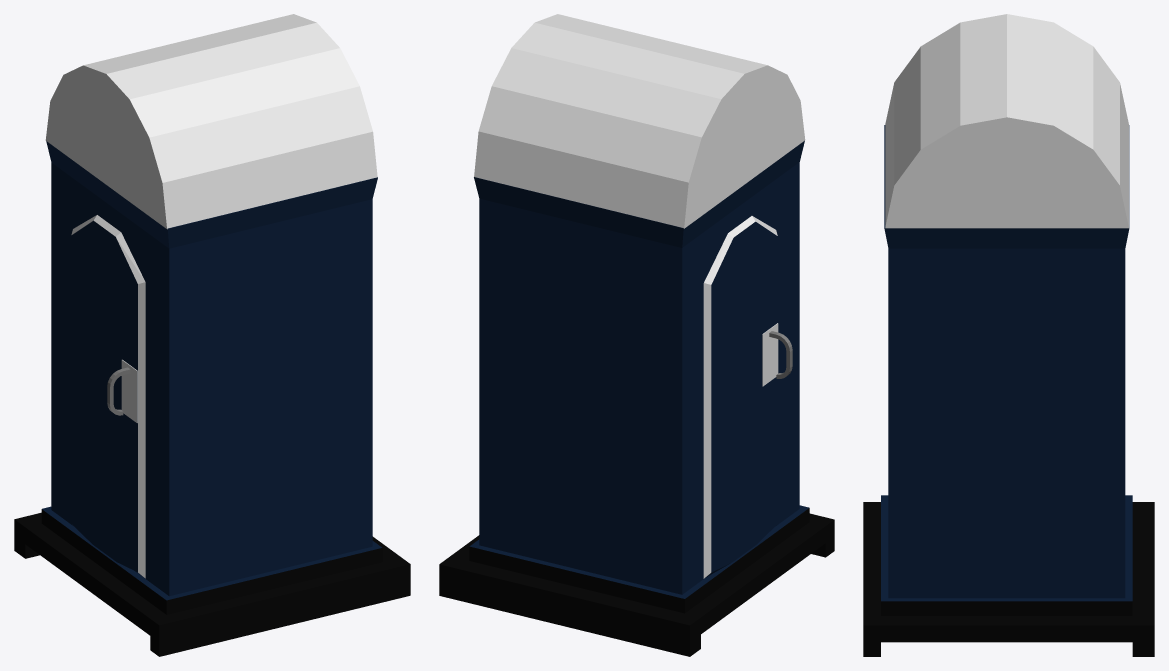
File: PortableToilet.fbx
The picture shows the model from 3 angles, left to right: view 1: azimuth 30°, elevation 25°; view 2: azimuth 150°, elevation 25°; view 3: azimuth 270°, elevation 25°; orthographic projection.
Parts seen in each view (by area): view 1: Box001; view 2: Box001; view 3: Box001.
Boxes of the visible parts, left/top/right/bottom form: Box001: left=14, top=14, right=410, bottom=656; Box001: left=439, top=14, right=834, bottom=656; Box001: left=863, top=14, right=1154, bottom=656.
Size of the model in its own units: 40.59 by 80.04 by 40.
